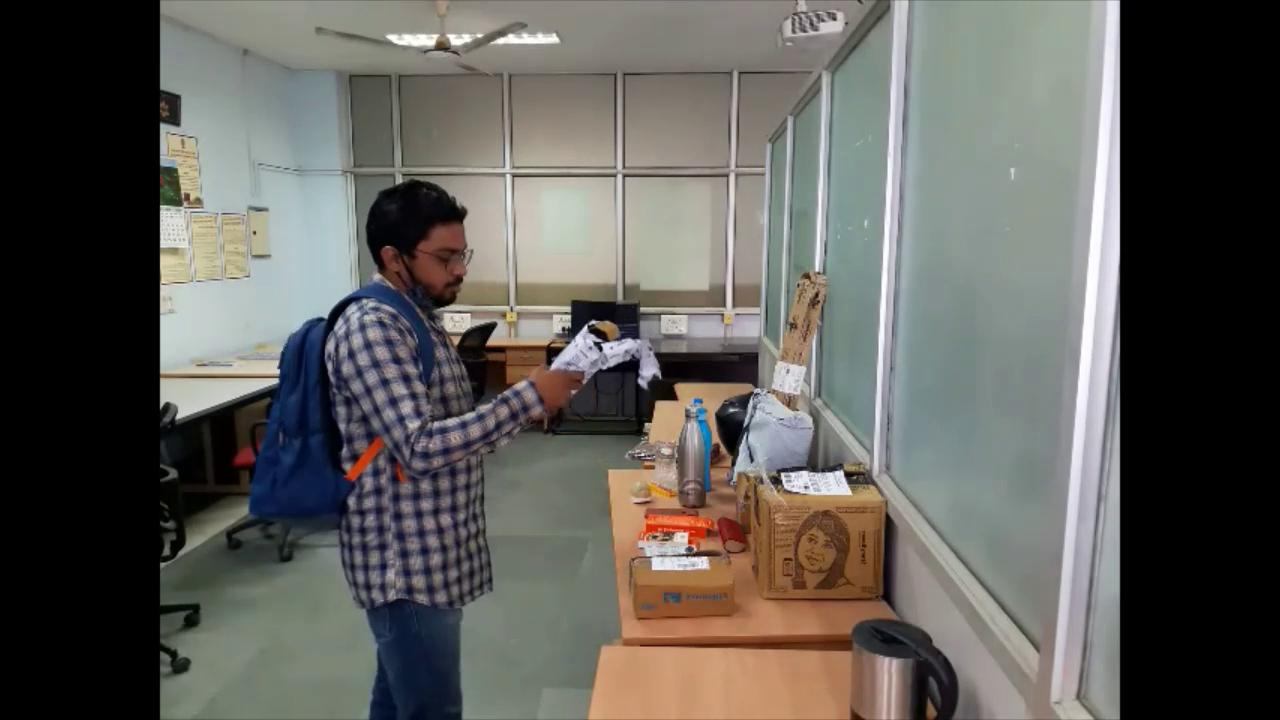Normal: (236, 171, 659, 717)
